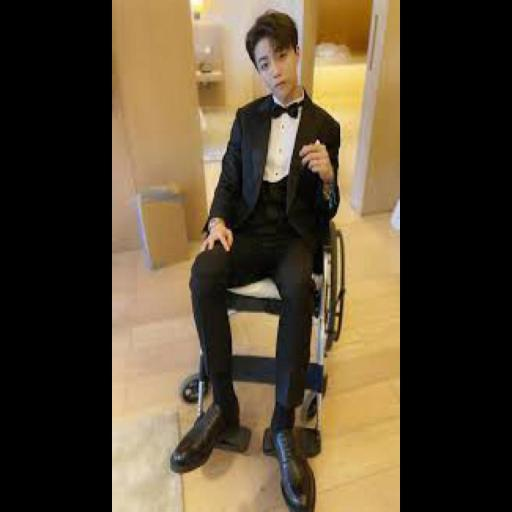cadeira_de_rodas: (186, 14, 343, 481)
